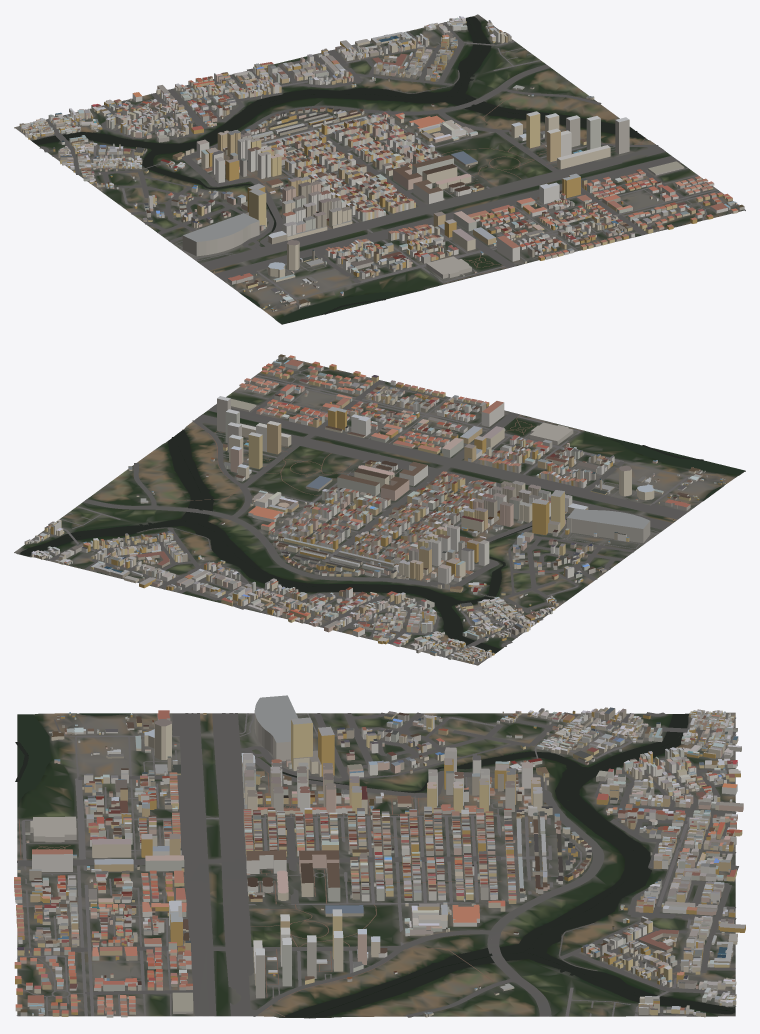
3 renders of one model, top to bottom at view 1: azimuth 30°, elevation 25°; view 2: azimuth 150°, elevation 25°; view 3: azimuth 270°, elevation 25°, orthographic. The views are drawn at different scales.
Parts seen in each view (by area): view 1: buildings, ground, roads, water; view 2: buildings, ground, roads, water; view 3: buildings, ground, roads, water.
Boxes of the visible parts, x1,y1,x2,y2 form: buildings: [19, 16, 744, 311]; ground: [14, 14, 745, 324]; roads: [18, 22, 745, 311]; water: [32, 16, 646, 324]; buildings: [24, 354, 725, 663]; ground: [14, 357, 745, 665]; roads: [31, 364, 720, 664]; water: [20, 430, 744, 653]; buildings: [14, 695, 745, 1017]; ground: [17, 712, 735, 1018]; roads: [16, 712, 738, 1017]; water: [15, 713, 735, 1018].
Bounding box in the file's own units: 1413 × 104 × 1427.
